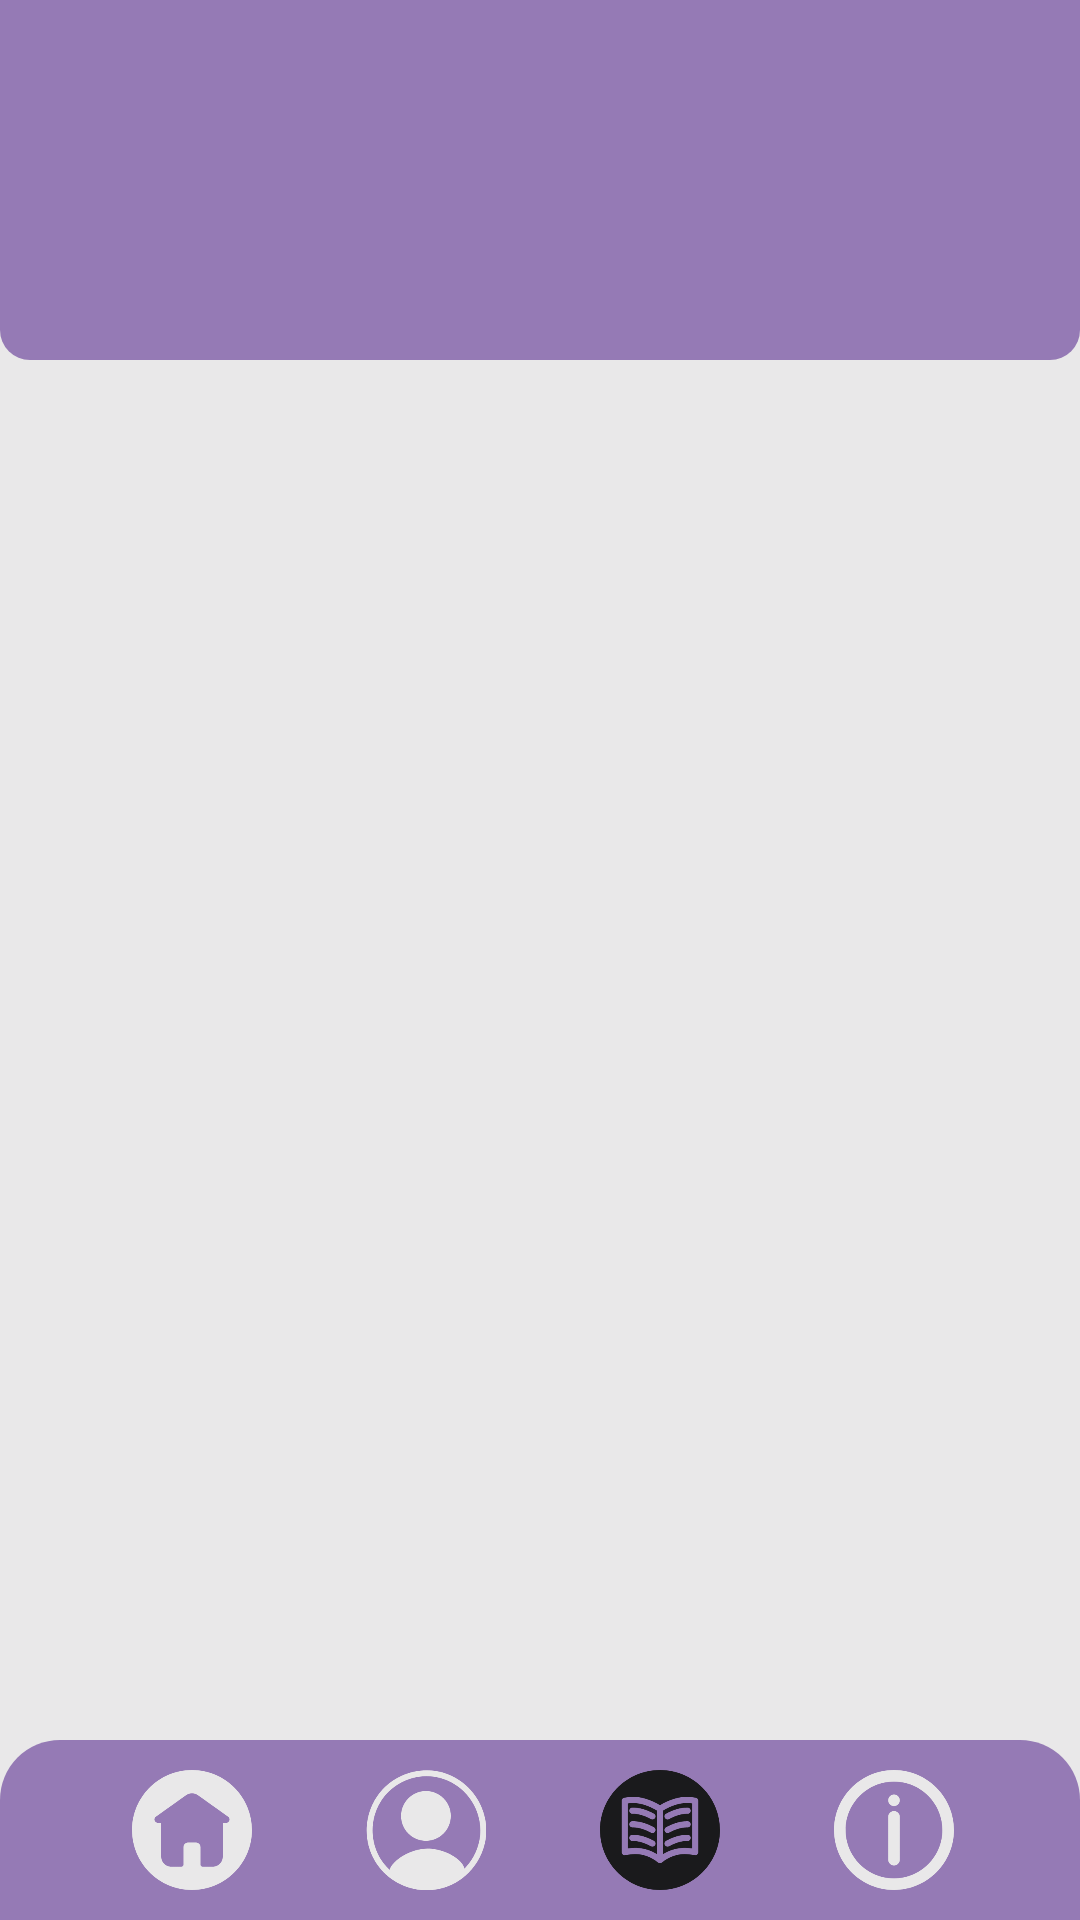

Screen size 1080 x 1920. Icon name, then its center in pixels as point (x, y):
home: point (192, 1830)
info: point (894, 1830)
note: point (660, 1830)
profile: point (426, 1830)
